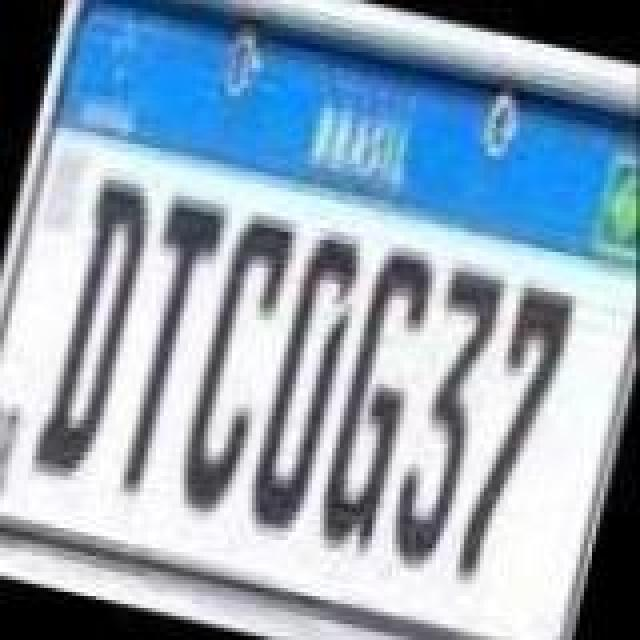3: (380, 254, 508, 582)
7: (452, 276, 580, 596)
C: (174, 200, 302, 524)
D: (30, 168, 158, 488), (244, 224, 372, 544)
G: (310, 234, 442, 570)
T: (102, 190, 230, 510)
